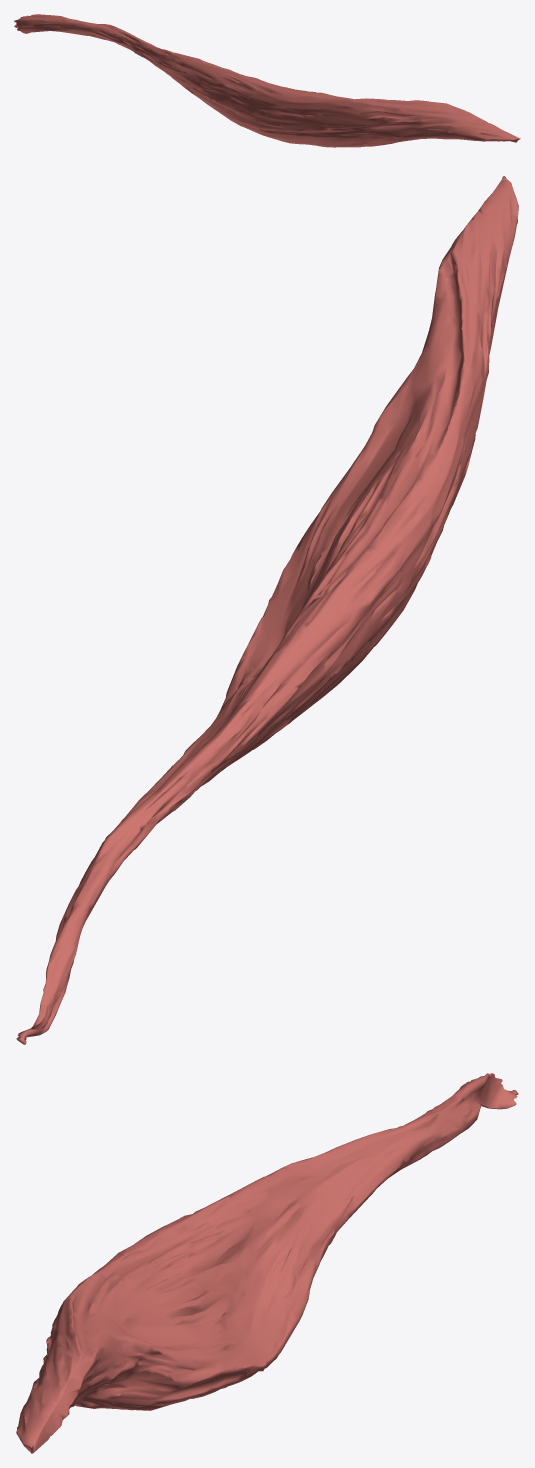
3 renders of one model, top to bottom at view 1: azimuth 30°, elevation 25°; view 2: azimuth 150°, elevation 25°; view 3: azimuth 330°, elevation 25°, orthographic. The views are drawn at different scales.
Parts seen in each view (by area): view 1: 右侧肱桡肌; view 2: 右侧肱桡肌; view 3: 右侧肱桡肌.
Part boxes in pixels (<box>): 右侧肱桡肌: <box>14,14,520,147</box>; 右侧肱桡肌: <box>16,176,518,1044</box>; 右侧肱桡肌: <box>16,1073,518,1453</box>.
Size of the model in its own units: 0.1102 by 0.1022 by 0.5143.
